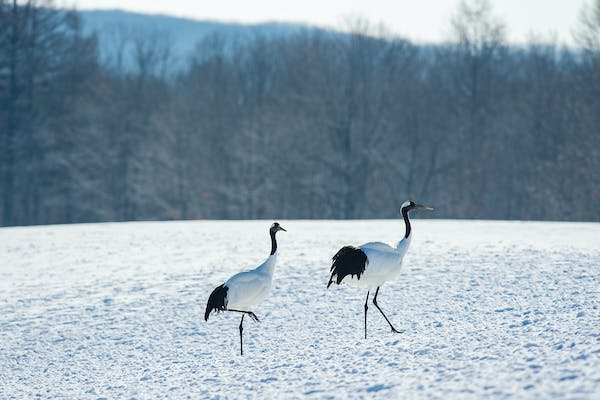Walking: (314, 183, 430, 365), (191, 186, 298, 372)
